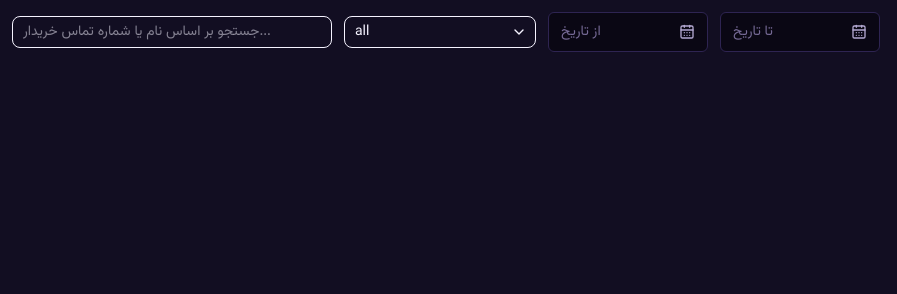
Scenario: OrderFilters › status select › lists all 7 order statuses plus 'همه' option
The width and height of the screenshot is (897, 294).
Click the dropdown at (440, 32), box [344,16,536,48]
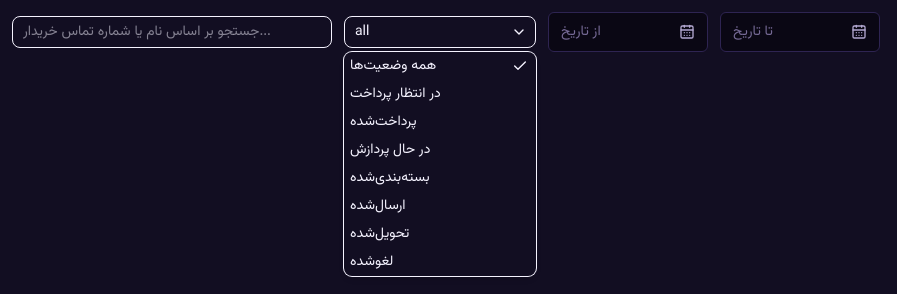
Expected: the number of options is 8
